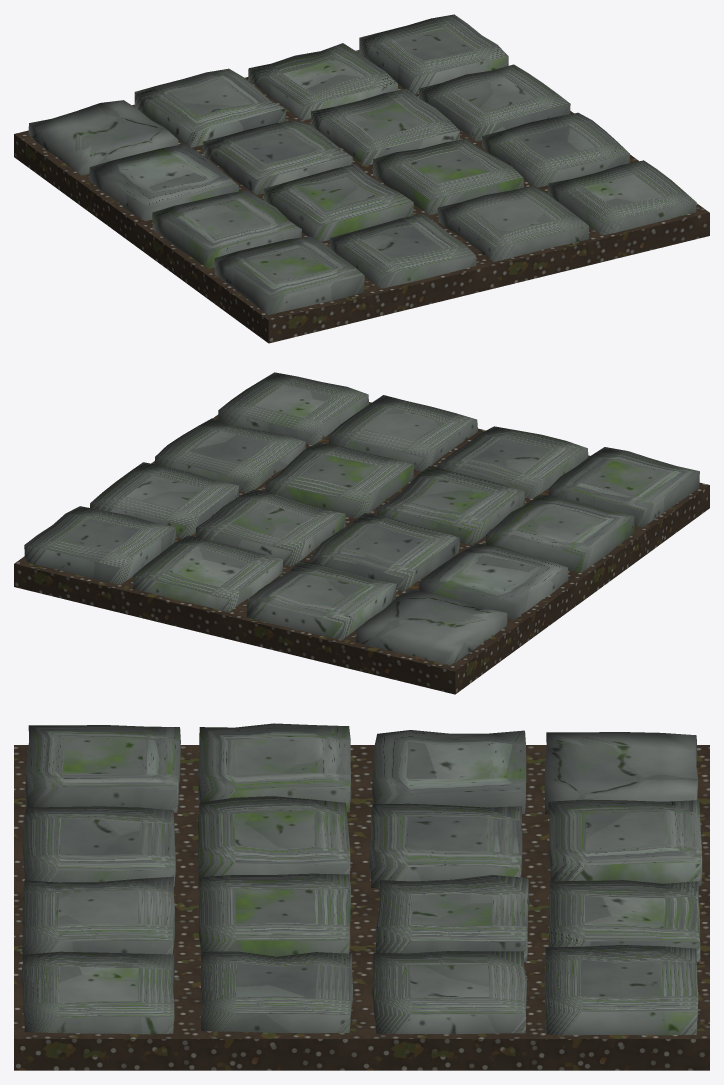
Rendered from ancient_stone_floor_tile.glb.
3 renders of one model, top to bottom at view 1: azimuth 30°, elevation 25°; view 2: azimuth 150°, elevation 25°; view 3: azimuth 270°, elevation 25°, orthographic. The views are drawn at different scales.
Parts seen in each view (by area): view 1: ancient_stone_floor_tile__stone_block, ancient_stone_floor_tile__soil; view 2: ancient_stone_floor_tile__stone_block, ancient_stone_floor_tile__soil; view 3: ancient_stone_floor_tile__stone_block, ancient_stone_floor_tile__soil.
Part boxes in pixels (x1,y1,x2,y2): ancient_stone_floor_tile__stone_block: [28, 14, 696, 315]; ancient_stone_floor_tile__soil: [14, 50, 709, 343]; ancient_stone_floor_tile__stone_block: [24, 372, 699, 665]; ancient_stone_floor_tile__soil: [14, 402, 709, 694]; ancient_stone_floor_tile__stone_block: [22, 723, 702, 1035]; ancient_stone_floor_tile__soil: [14, 745, 709, 1070].
Size of the model in its own units: 2 by 0.1951 by 2.
2 materials, 2 textured.
